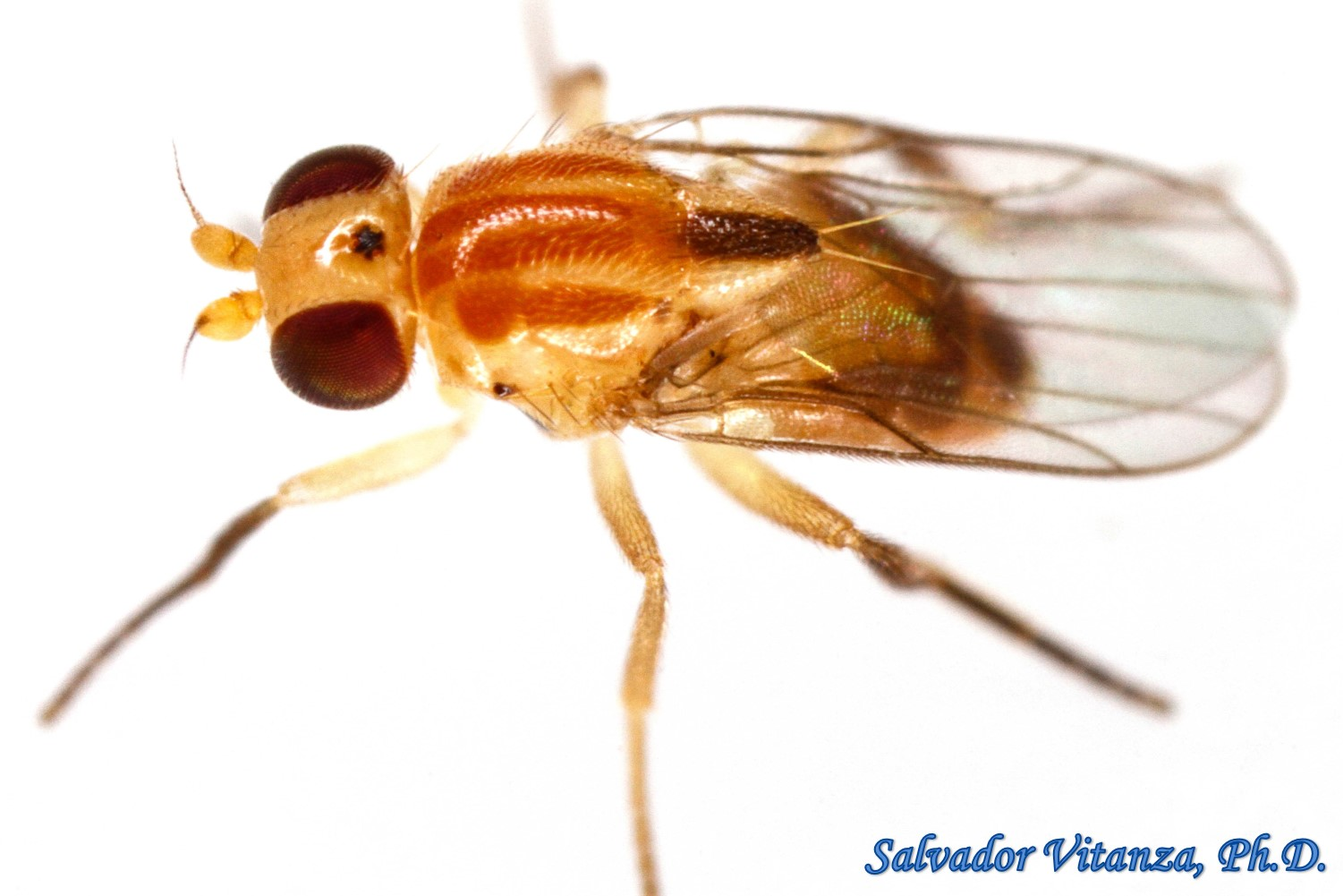Chloropidae: (35, 24, 1307, 893)
